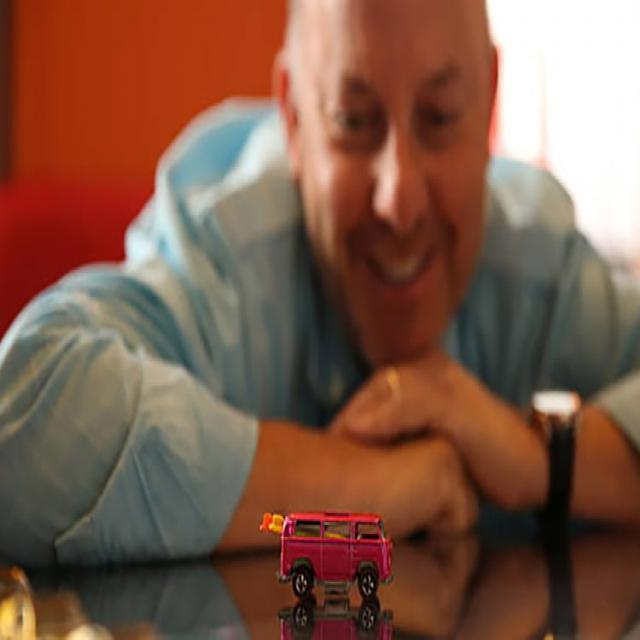car: (257, 498, 407, 607)
